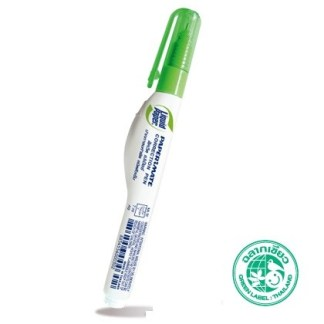Correction_fluid: (95, 2, 204, 312)
